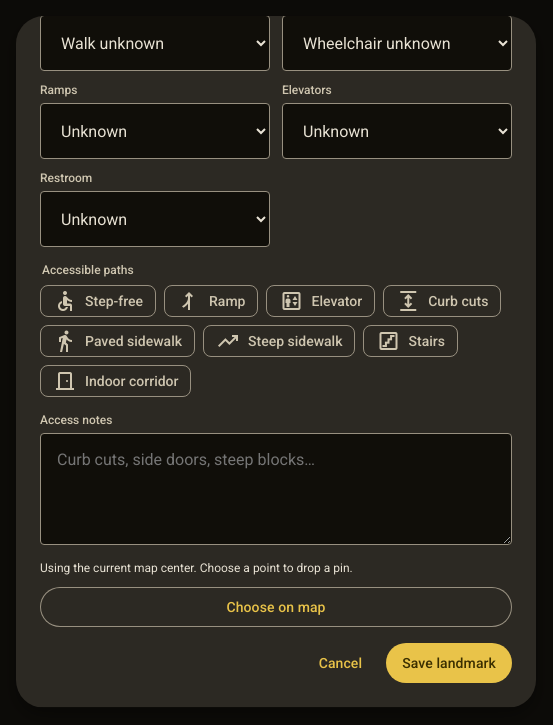
AddLocationDialog › requires a name
The width and height of the screenshot is (553, 725).
(page scrolled)
Click the button "Save landmark": click(449, 663) 386,643 -> 512,683
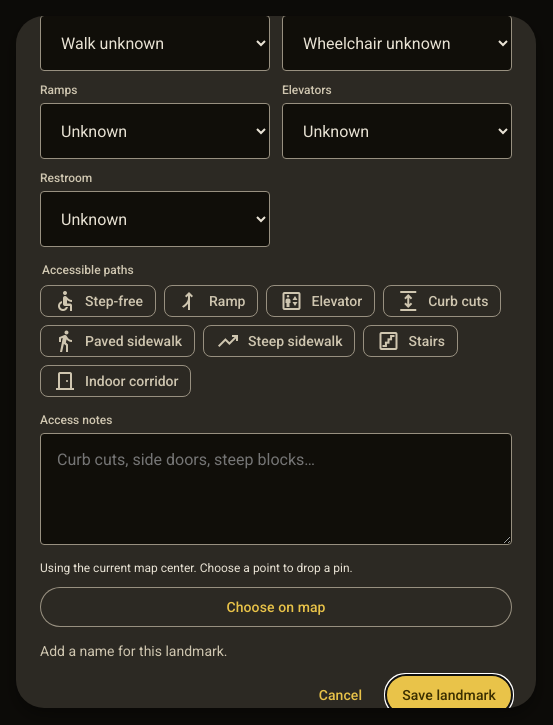
Result: the text "Add a name for this landmark." is shown at 40,643 -> 228,659
